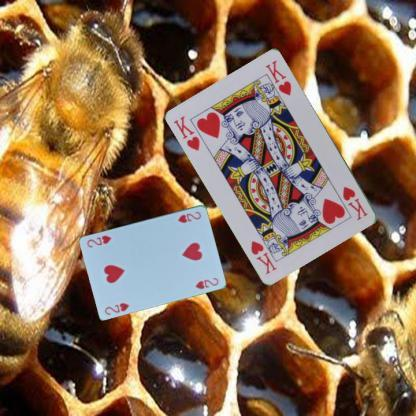2h: (102, 300, 131, 316), (175, 208, 202, 224)
Kh: (171, 112, 202, 152), (340, 184, 370, 222)
